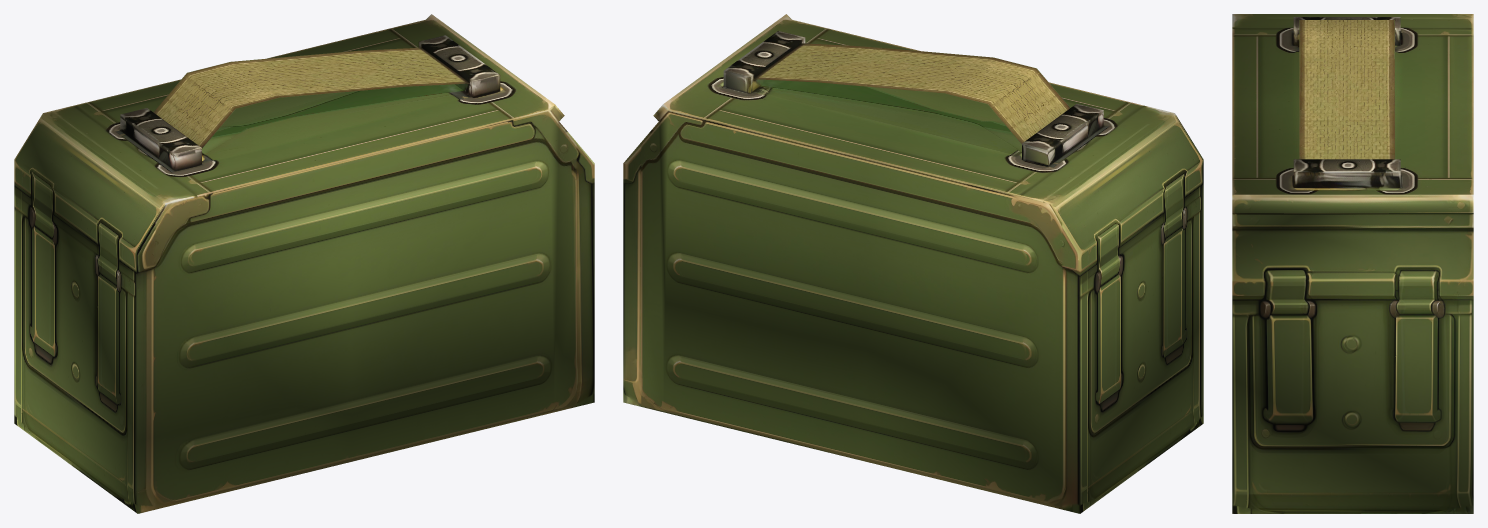
The model's file is Armor_Box.fbx.
3 views of the same model, side by side, from view 1: azimuth 30°, elevation 25°; view 2: azimuth 150°, elevation 25°; view 3: azimuth 270°, elevation 25° (orthographic). The views are drawn at different scales.
Parts seen in each view (by area): view 1: Armor_Box; view 2: Armor_Box; view 3: Armor_Box.
Part boxes in pixels (box(x1,y1,x2,y2)): Armor_Box: box(14, 14, 594, 513); Armor_Box: box(623, 14, 1203, 513); Armor_Box: box(1232, 14, 1473, 513).
Size of the model in its own units: 86.51 by 62.99 by 40.52.
